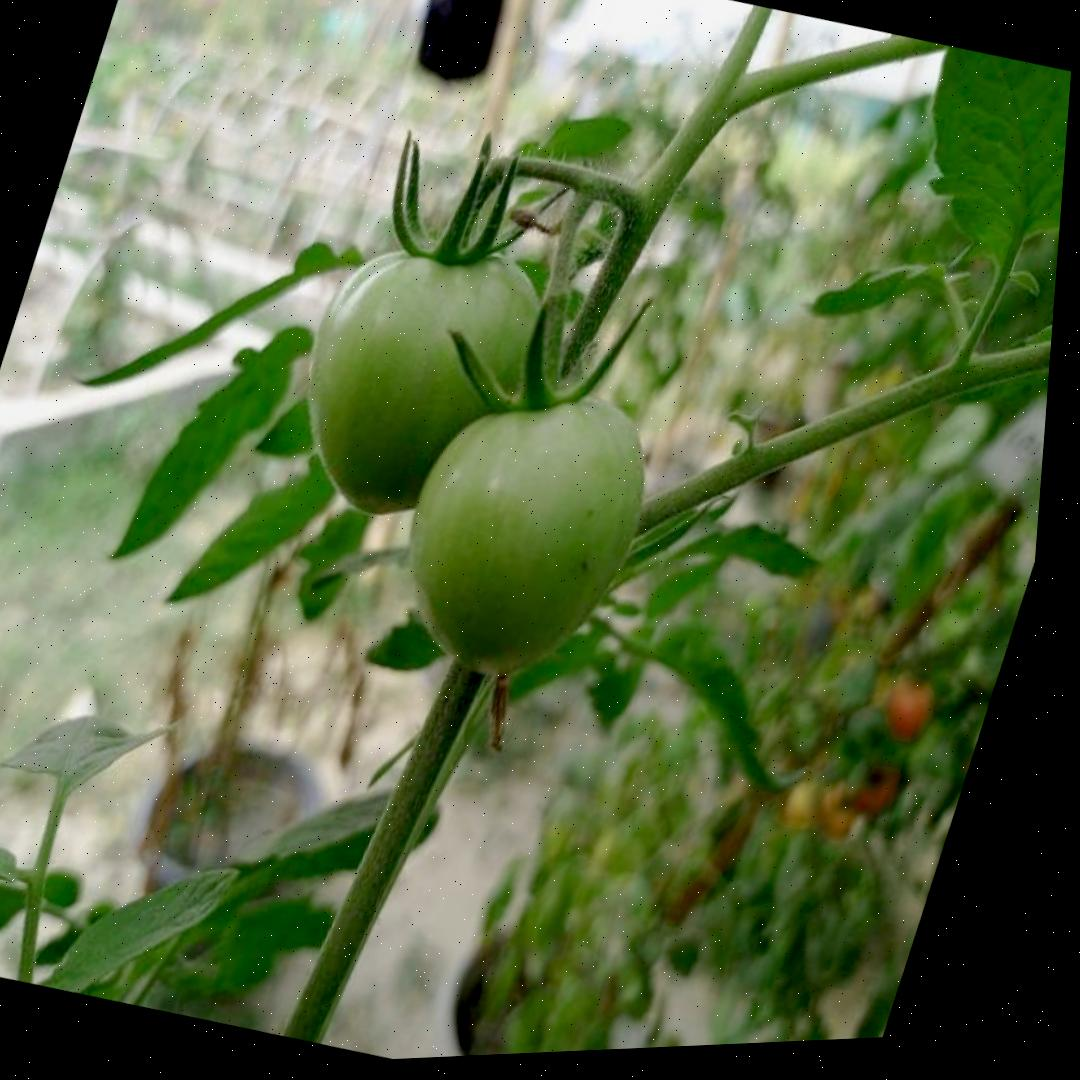mentah: (365, 351, 681, 704), (260, 197, 577, 547)
